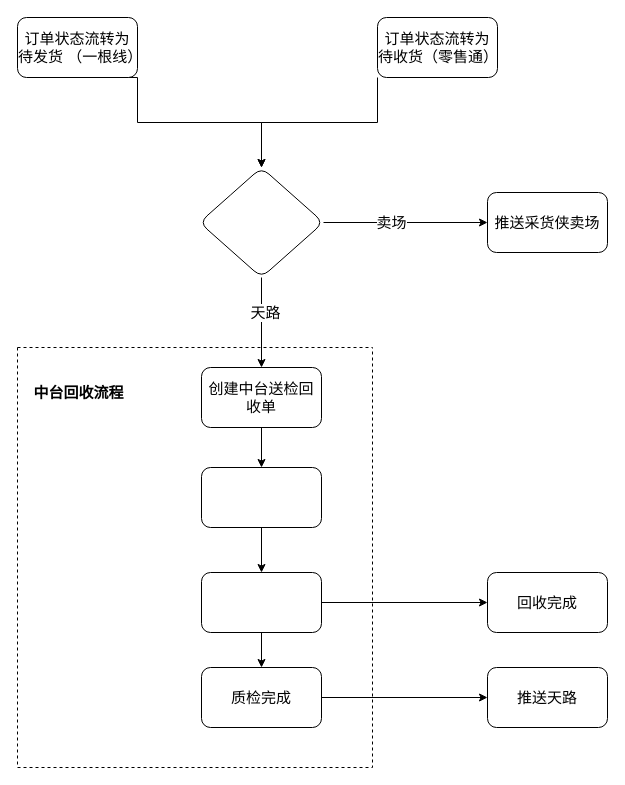
Image size: 625x785. Some labels were removed from this diagram. The centre of each missing label's shape, as x and y in pixels:
回收商收货: the point at 261,602
推送天路/卖场: the point at 261,222
触发送检单发货: the point at 261,497
